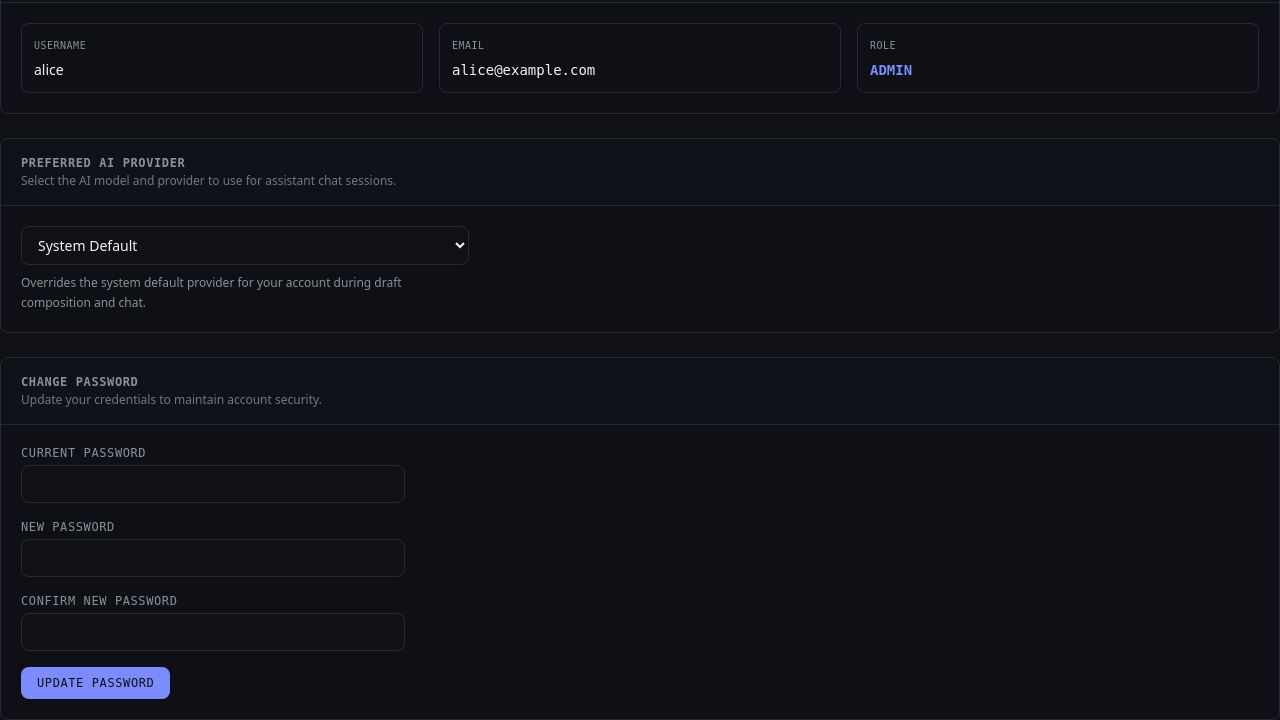
AccountTab › shows error message when changePassword fails
(page scrolled)
Type "bad" into the password field below "Current Password". click: (213, 484)
box: top-left (21, 465), bottom-right (405, 503)
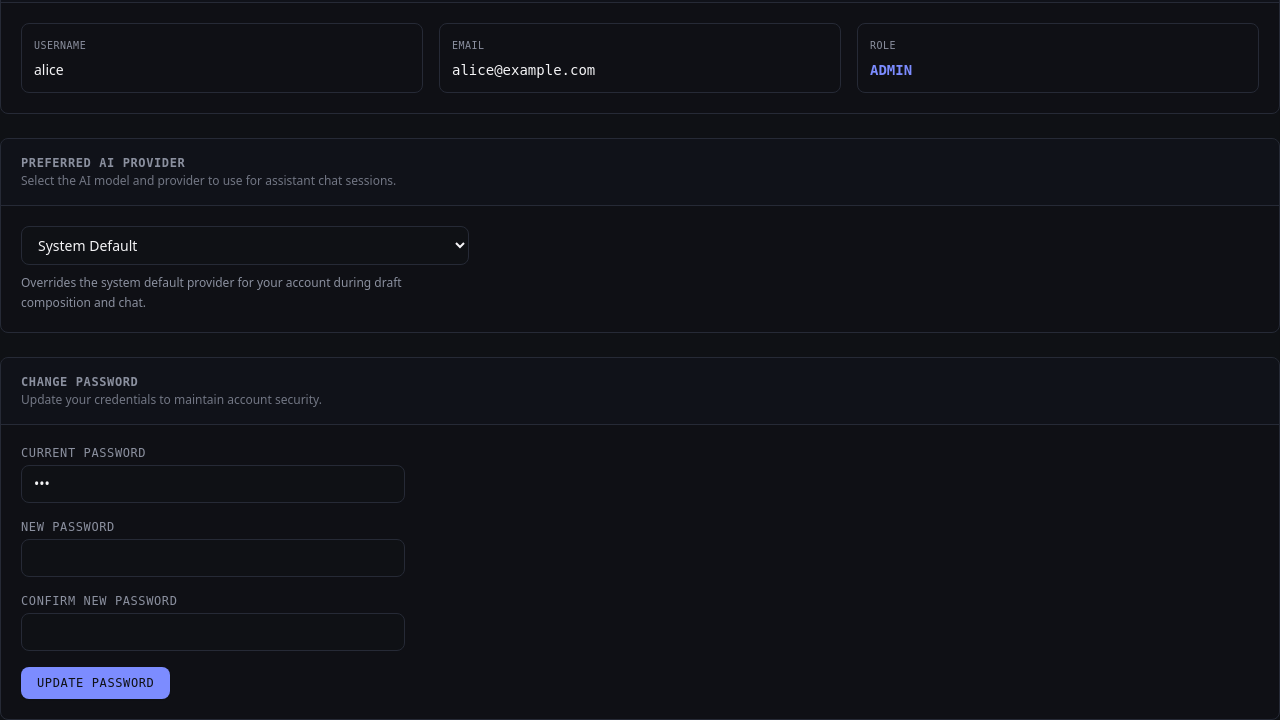
Type "newpw" into the 2nd password field. click: (213, 558)
box: top-left (21, 539), bottom-right (405, 577)
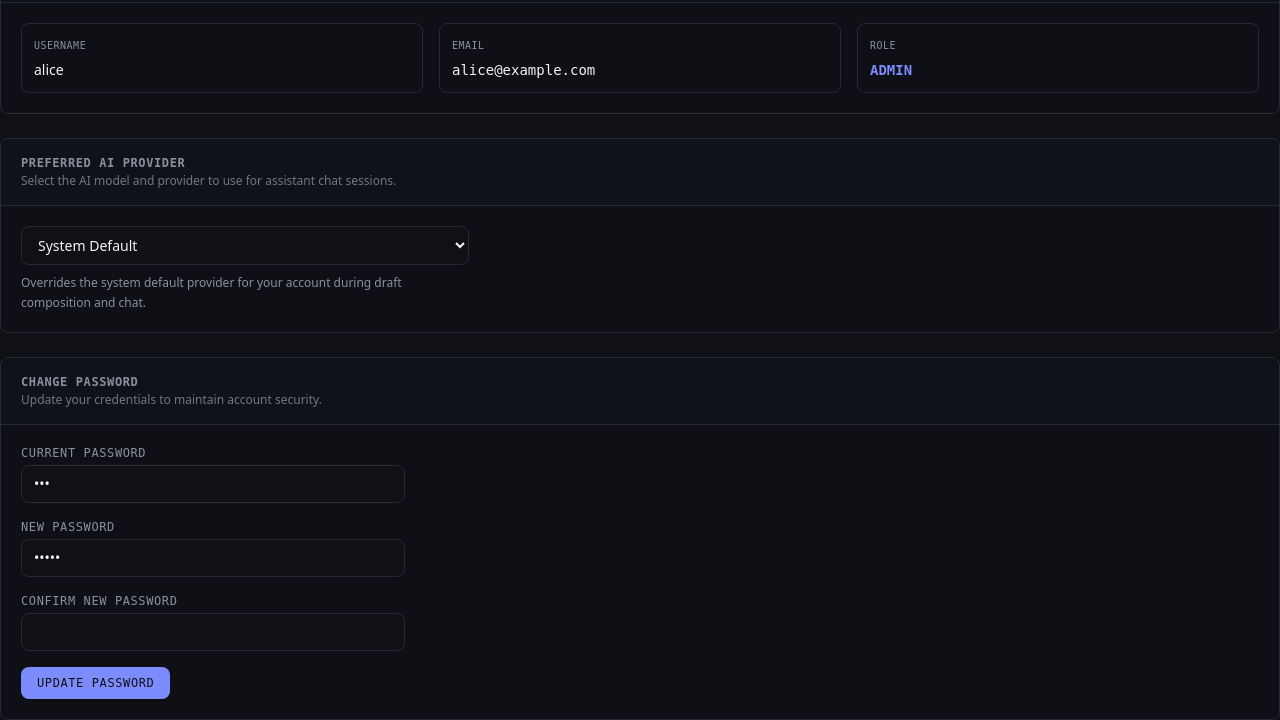
Type "newpw" into the password field below "Confirm New Password". click: (213, 632)
box: top-left (21, 613), bottom-right (405, 651)
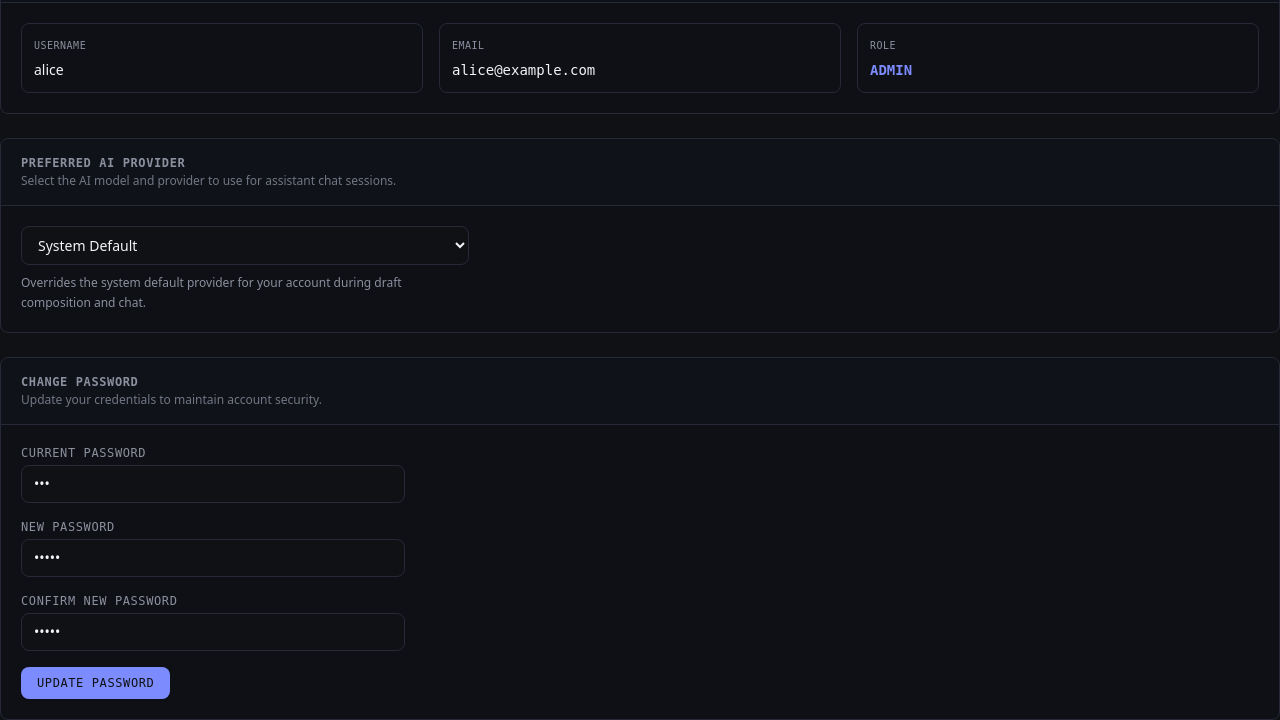
Click the button "update password". click: (96, 683)
box: top-left (21, 667), bottom-right (170, 699)
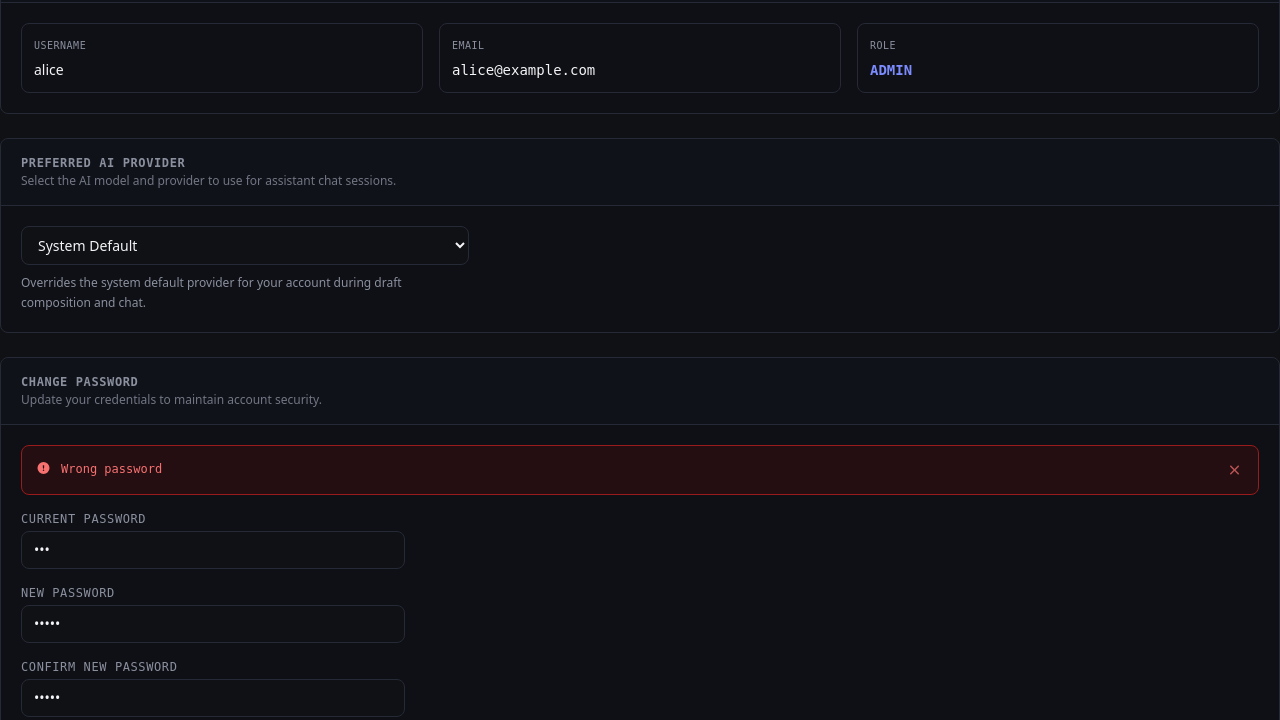
Check: the text "Wrong password" is shown, box top-left (61, 460), bottom-right (162, 480)
